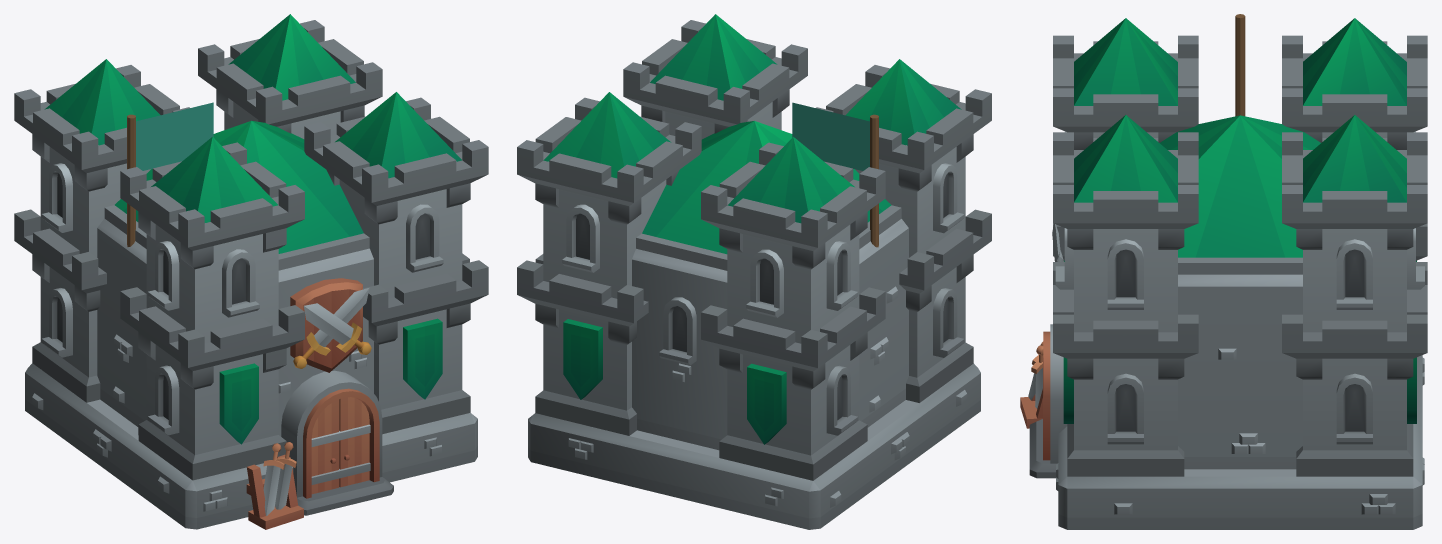
Rendered from barracks-teal.glb.
3 renders of one model, left to right at view 1: azimuth 30°, elevation 25°; view 2: azimuth 150°, elevation 25°; view 3: azimuth 270°, elevation 25°, orthographic. The views are drawn at different scales.
Visible parts, largest first — view 1: building_barracks_green, team-standard, standard-pole; view 2: building_barracks_green, team-standard, standard-pole; view 3: building_barracks_green, standard-pole.
Part boxes in pixels (x1,y1,x2,y2): building_barracks_green: [14, 14, 488, 529]; team-standard: [136, 102, 213, 170]; standard-pole: [127, 114, 135, 246]; building_barracks_green: [517, 14, 991, 529]; team-standard: [792, 102, 869, 170]; standard-pole: [870, 114, 878, 247]; building_barracks_green: [1020, 18, 1427, 529]; standard-pole: [1235, 14, 1245, 116].
Size of the model in its own units: 2.63 by 3 by 2.86.
Materials: 3 (1 with a texture image).
